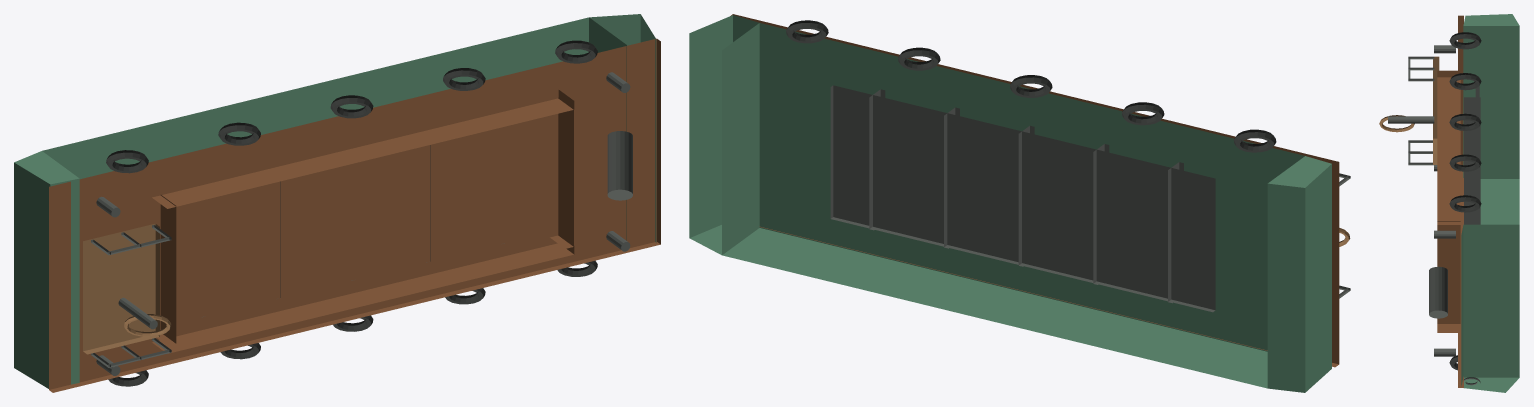
Rendered from barge.glb.
The picture shows the model from 3 angles, left to right: view 1: azimuth 30°, elevation 25°; view 2: azimuth 150°, elevation 25°; view 3: azimuth 270°, elevation 25°; orthographic projection. The views are drawn at different scales.
Visible parts, largest first — view 1: main_deck, flat_hull, hold_coaming_1.48, stern, hold_coaming_-1.48, steering_platform, hold_end_4.25, hold_end_-4.25, anchor_windlass, bow, fender_0_2.18, fender_4.8_2.18 (+3 smaller); view 2: flat_hull, cargo_floor, stern, bow, main_deck, fender_-4.8_2.18, fender_2.4_2.18, fender_4.8_2.18, fender_-2.4_2.18, fender_0_2.18, bulkhead_3.2, bulkhead_-3.2 (+3 smaller); view 3: bow, flat_hull, hold_coaming_1.48, hold_end_4.25, main_deck, anchor_windlass, stern, steering_platform, fender_2.4_2.18, fender_-4.8_2.18, fender_-2.4_2.18, fender_0_2.18 (+12 smaller).
Boxes of the visible parts, x1,y1,x2,y2 form: main_deck: (49, 38, 660, 392); flat_hull: (42, 17, 626, 240); hold_coaming_1.48: (151, 89, 574, 208); stern: (14, 151, 79, 388); hold_coaming_-1.48: (151, 234, 574, 353); steering_platform: (83, 223, 159, 354); hold_end_4.25: (549, 98, 573, 248); hold_end_-4.25: (152, 194, 176, 345); anchor_windlass: (607, 131, 632, 200); bow: (589, 14, 656, 242); fender_0_2.18: (330, 95, 373, 118); fender_4.8_2.18: (555, 40, 597, 63); flat_hull: (722, 23, 1304, 388); cargo_floor: (830, 85, 1215, 312); stern: (1267, 156, 1331, 392); bow: (689, 15, 759, 255); main_deck: (731, 14, 1339, 367); fender_-4.8_2.18: (1233, 129, 1276, 152); fender_2.4_2.18: (898, 47, 940, 70); fender_4.8_2.18: (786, 20, 828, 43); fender_-2.4_2.18: (1122, 102, 1164, 125); fender_0_2.18: (1010, 75, 1052, 97); bulkhead_3.2: (869, 89, 885, 230); bulkhead_-3.2: (1168, 162, 1183, 303); bow: (1461, 224, 1519, 392); flat_hull: (1463, 26, 1519, 224); hold_coaming_1.48: (1437, 70, 1460, 224); hold_end_4.25: (1437, 221, 1460, 326); main_deck: (1458, 15, 1463, 387); anchor_windlass: (1429, 266, 1447, 318); stern: (1463, 14, 1519, 25); steering_platform: (1433, 56, 1439, 164); fender_2.4_2.18: (1449, 154, 1481, 171); fender_-4.8_2.18: (1449, 32, 1481, 49); fender_-2.4_2.18: (1449, 73, 1481, 90); fender_0_2.18: (1449, 113, 1481, 130).
Size of the model in its own units: 13.3 by 4.5 by 3.49.
